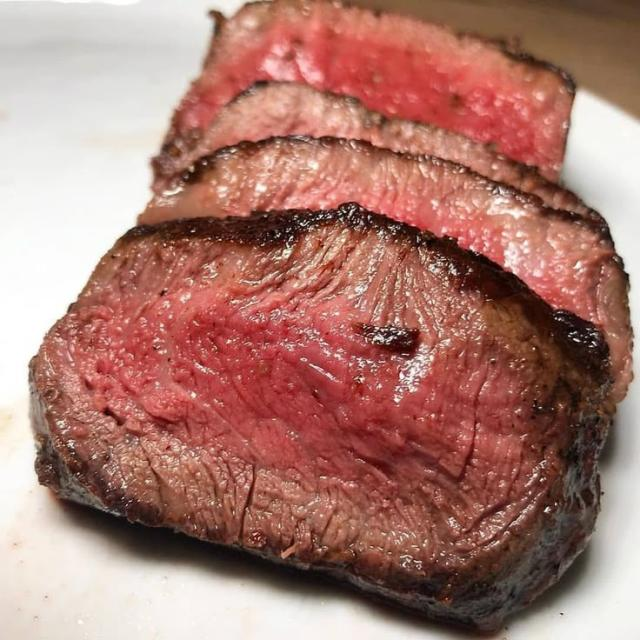beef steak: (31, 205, 609, 629), (140, 137, 632, 401), (154, 0, 573, 179), (154, 82, 601, 220)
